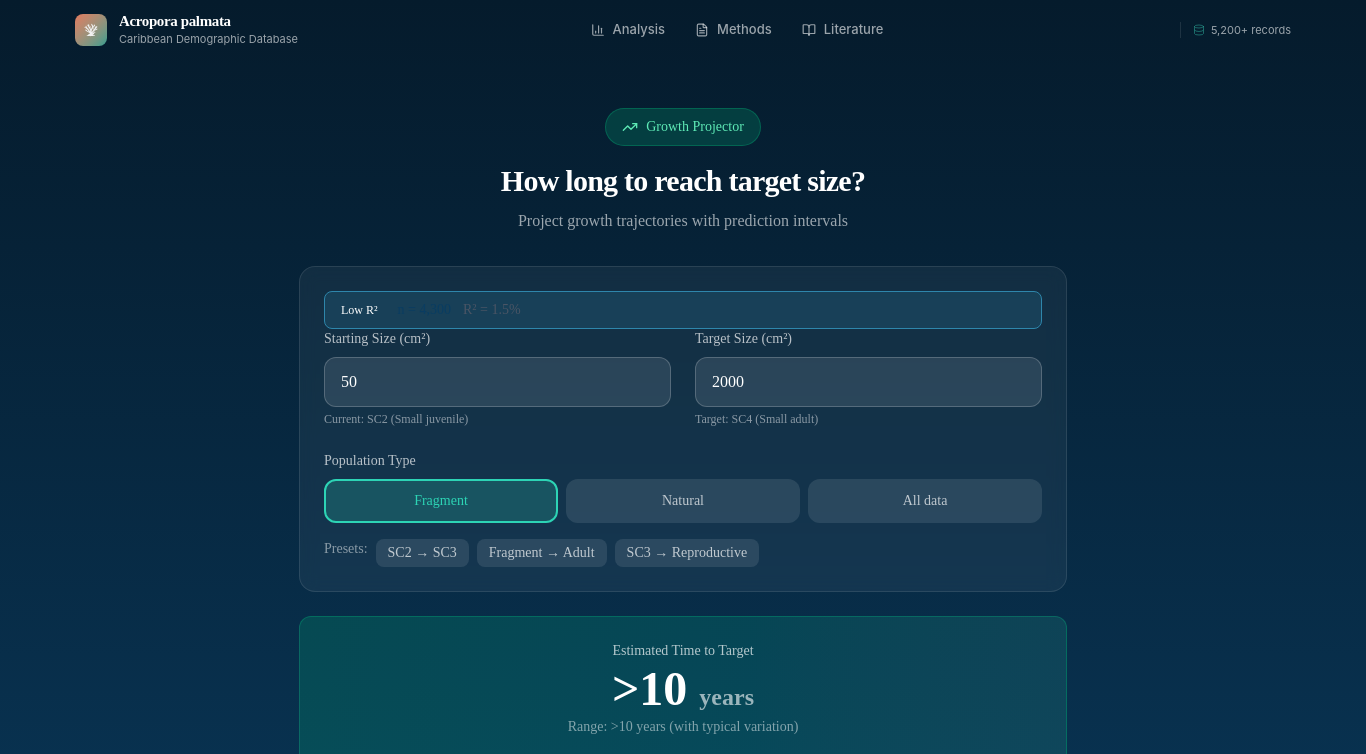
Test: GrowthTool › population type › shows warning when All data is selected
The image size is (1366, 754).
Click the button "All data".
click(925, 500)  # box [808,478,1042,522]
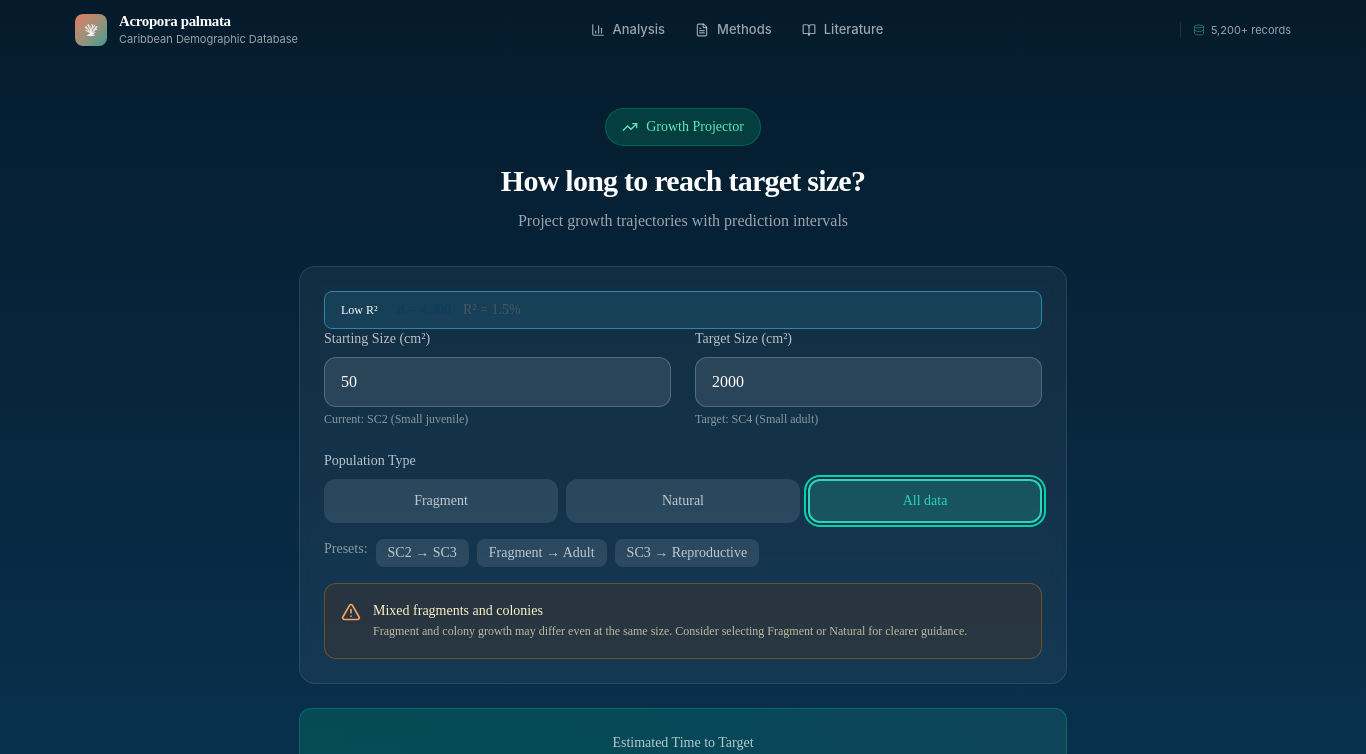
Expected: the text "Mixed fragments and colonies" is shown, [373,602,543,618]
